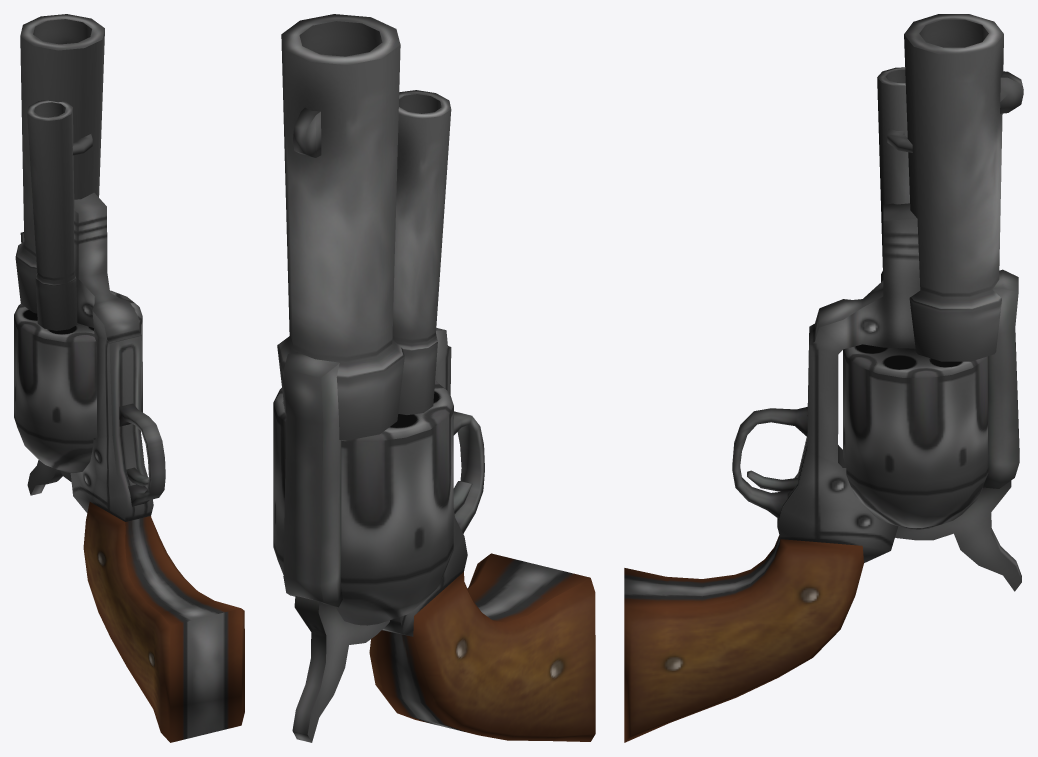
File: Pistol.FBX
The picture shows the model from 3 angles, left to right: view 1: azimuth 30°, elevation 25°; view 2: azimuth 150°, elevation 25°; view 3: azimuth 270°, elevation 25°; orthographic projection. The views are drawn at different scales.
Parts seen in each view (by area): view 1: pistol; view 2: pistol; view 3: pistol.
Boxes of the visible parts, box(x1,y1,x2,y2) form: pistol: box(14, 14, 244, 742); pistol: box(273, 14, 595, 742); pistol: box(624, 14, 1023, 742).
Size of the model in its own units: 0.1426 by 0.7366 by 0.3866.
